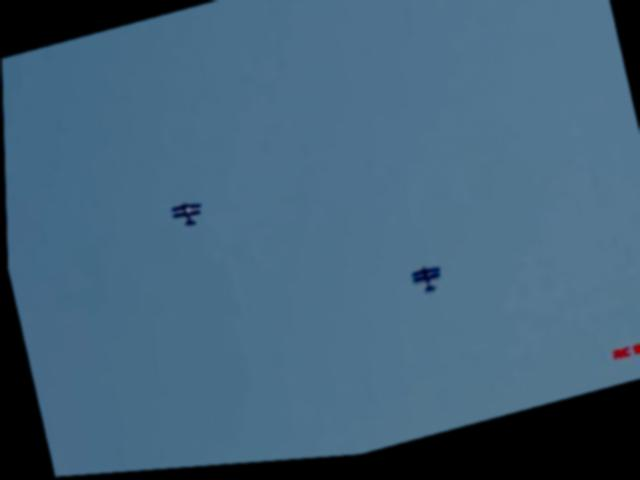uav: (165, 197, 207, 239), (404, 264, 446, 306)
